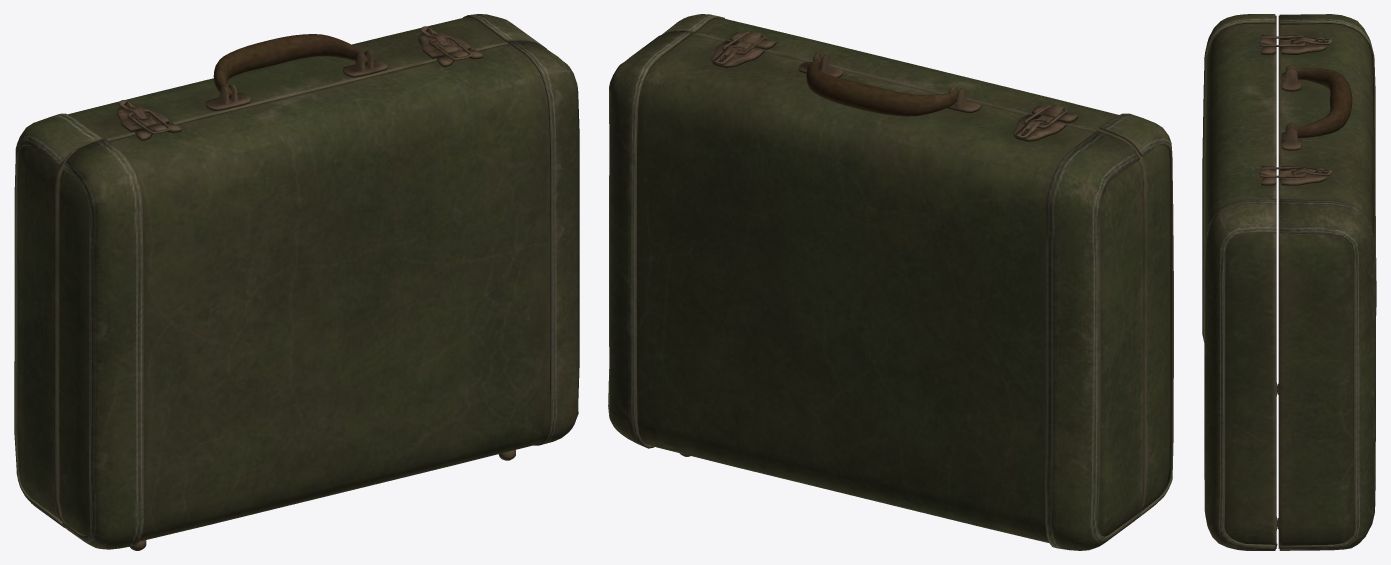
File: vintage_suitcase.glb
3 renders of one model, left to right at view 1: azimuth 30°, elevation 25°; view 2: azimuth 150°, elevation 25°; view 3: azimuth 270°, elevation 25°, orthographic. The views are drawn at different scales.
Parts seen in each view (by area): view 1: vintage_suitcase; view 2: vintage_suitcase; view 3: vintage_suitcase.
Boxes of the visible parts, <box> form: vintage_suitcase: <box>14,14,579,550</box>; vintage_suitcase: <box>608,14,1173,550</box>; vintage_suitcase: <box>1202,14,1376,550</box>.
Bounding box in the file's own units: 0.6938 × 0.5679 × 0.2392.
1 material, 1 textured.
